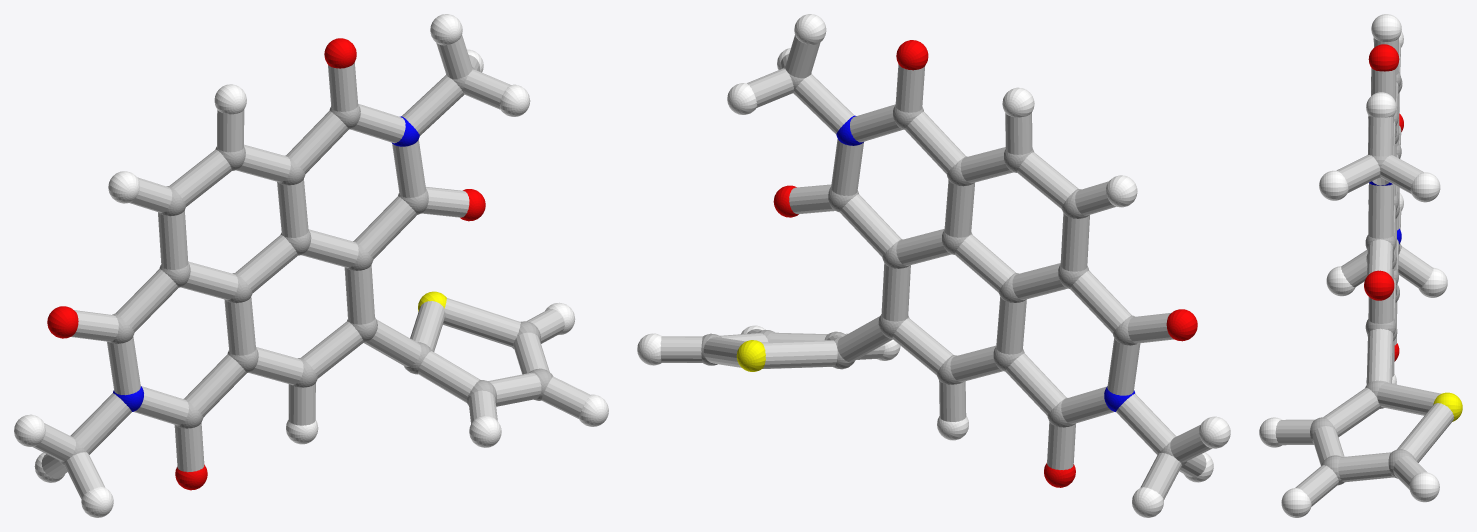
File: Dimethyl_Naphthalene_Dicarboximide_Phi_25_Theta_110_Thiophene.glb
3 views of the same model, side by side, from view 1: azimuth 30°, elevation 25°; view 2: azimuth 150°, elevation 25°; view 3: azimuth 270°, elevation 25° (orthographic). The views are drawn at different scales.
Visible parts, largest first — view 1: grp14119, grp7241, grp1, grp12309, grp11585; view 2: grp14119, grp7241, grp1, grp12309, grp13757, grp11585; view 3: grp14119, grp7241, grp1, grp12309, grp13757.
Boxes of the visible parts, left/top/right/bottom form: grp14119: left=33, top=35, right=590, bottom=499; grp7241: left=14, top=14, right=608, bottom=517; grp1: left=59, top=67, right=553, bottom=465; grp12309: left=47, top=38, right=485, bottom=490; grp11585: left=113, top=116, right=419, bottom=411; grp14119: left=660, top=35, right=1212, bottom=499; grp7241: left=637, top=14, right=1230, bottom=517; grp1: left=701, top=66, right=1186, bottom=466; grp12309: left=773, top=40, right=1197, bottom=487; grp13757: left=736, top=340, right=765, bottom=371; grp11585: left=836, top=115, right=1134, bottom=411; grp14119: left=1275, top=38, right=1453, bottom=506; grp7241: left=1259, top=14, right=1447, bottom=517; grp1: left=1310, top=71, right=1415, bottom=485; grp12309: left=1364, top=44, right=1403, bottom=361; grp13757: left=1433, top=392, right=1462, bottom=421.
Bounding box in the file's own units: 12.28 × 8.41 × 4.01.
